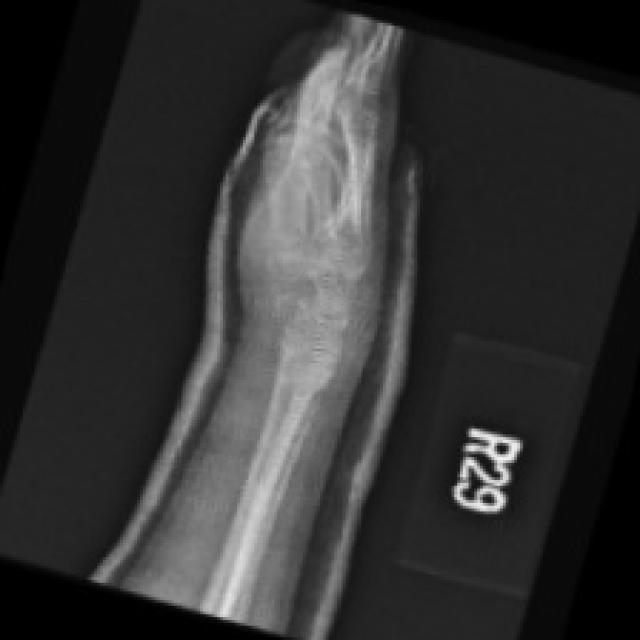fracture: (316, 66, 405, 168)
